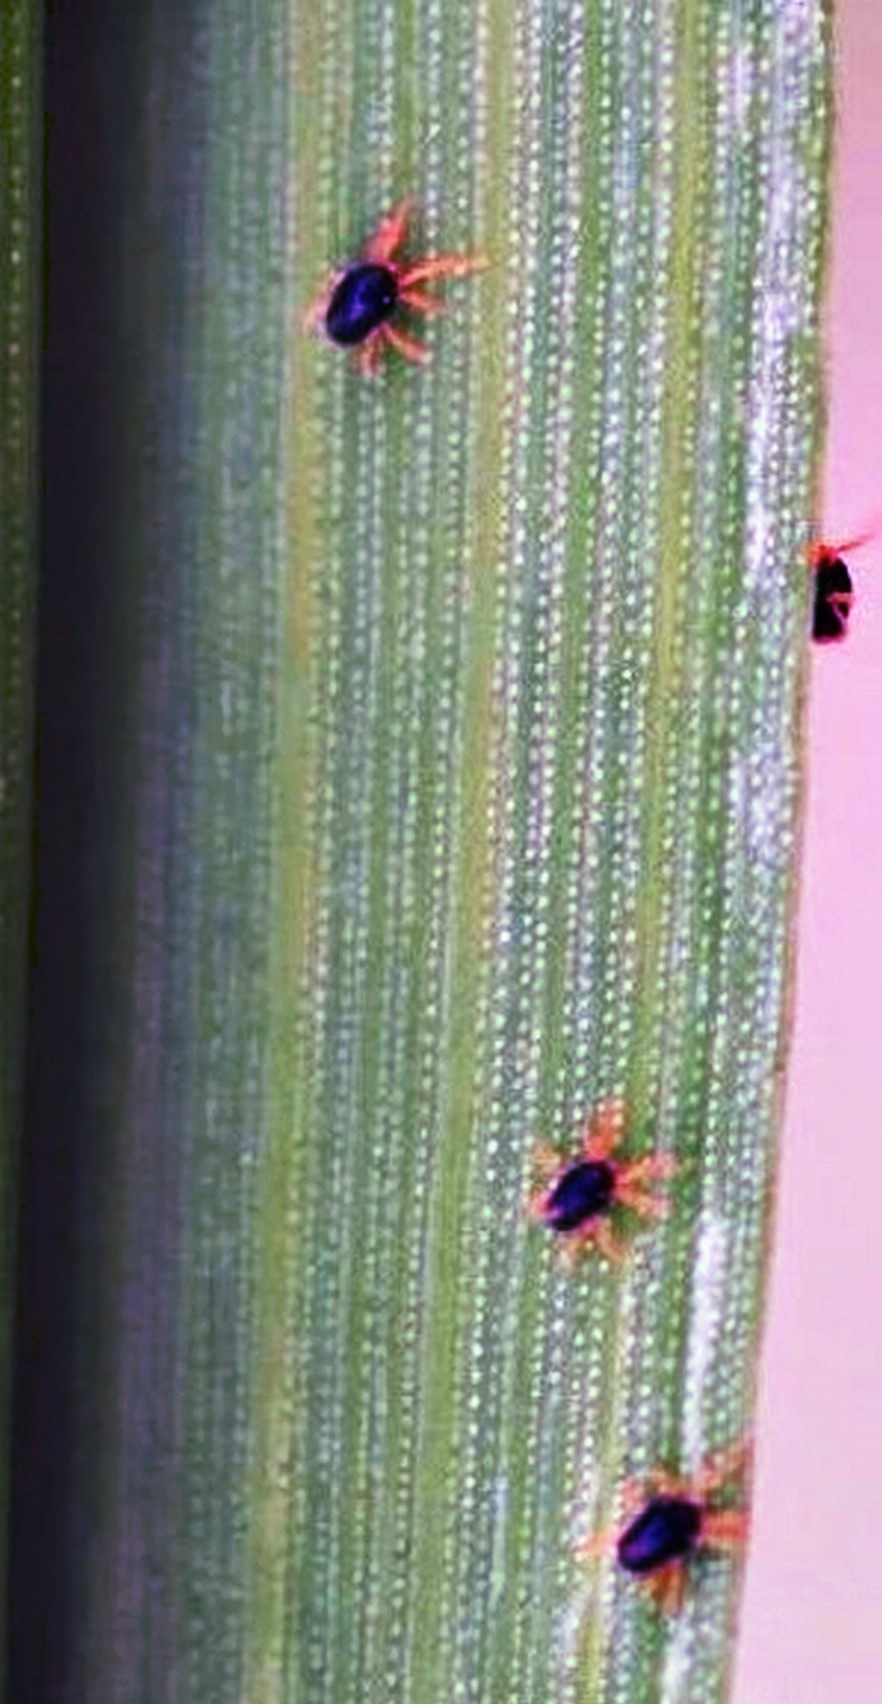Wheat Red Spider: (549, 1388, 783, 1621), (276, 170, 492, 404), (492, 1083, 691, 1301)
